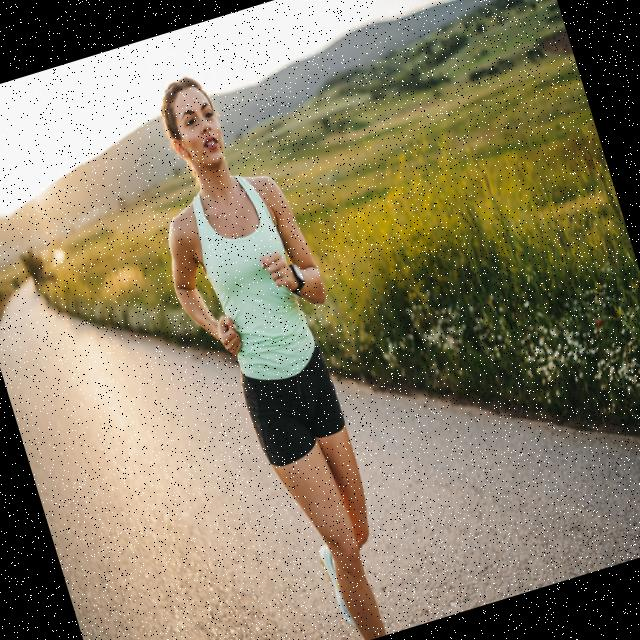Person: (116, 54, 427, 640)
